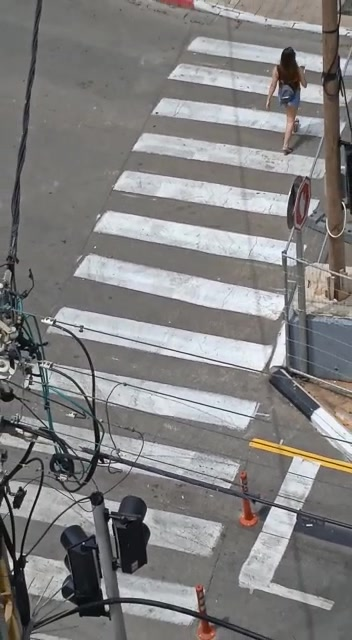crosswalk: (78, 24, 274, 620)
person: (258, 35, 321, 158)
